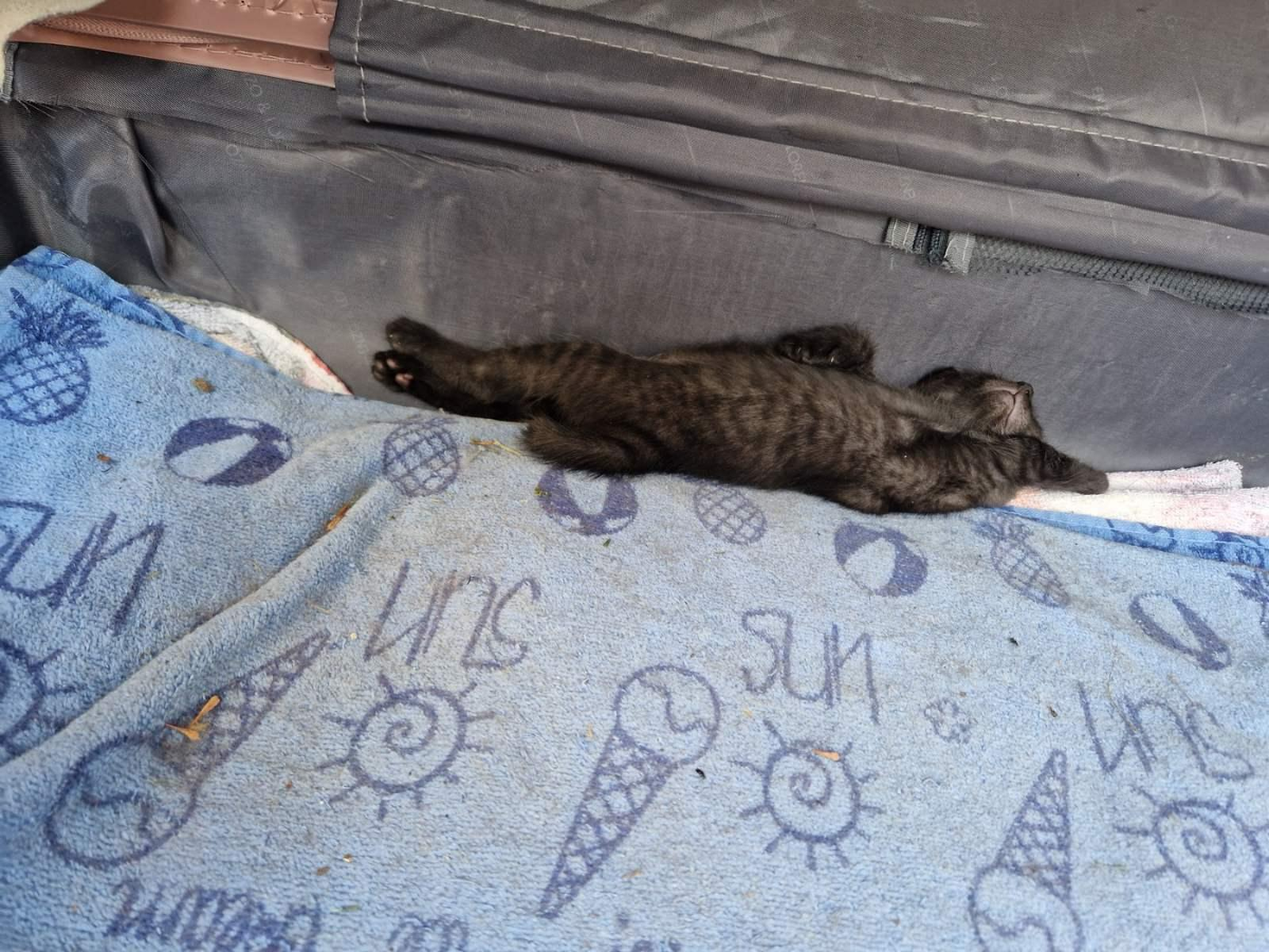macka: (377, 314, 1113, 517)
